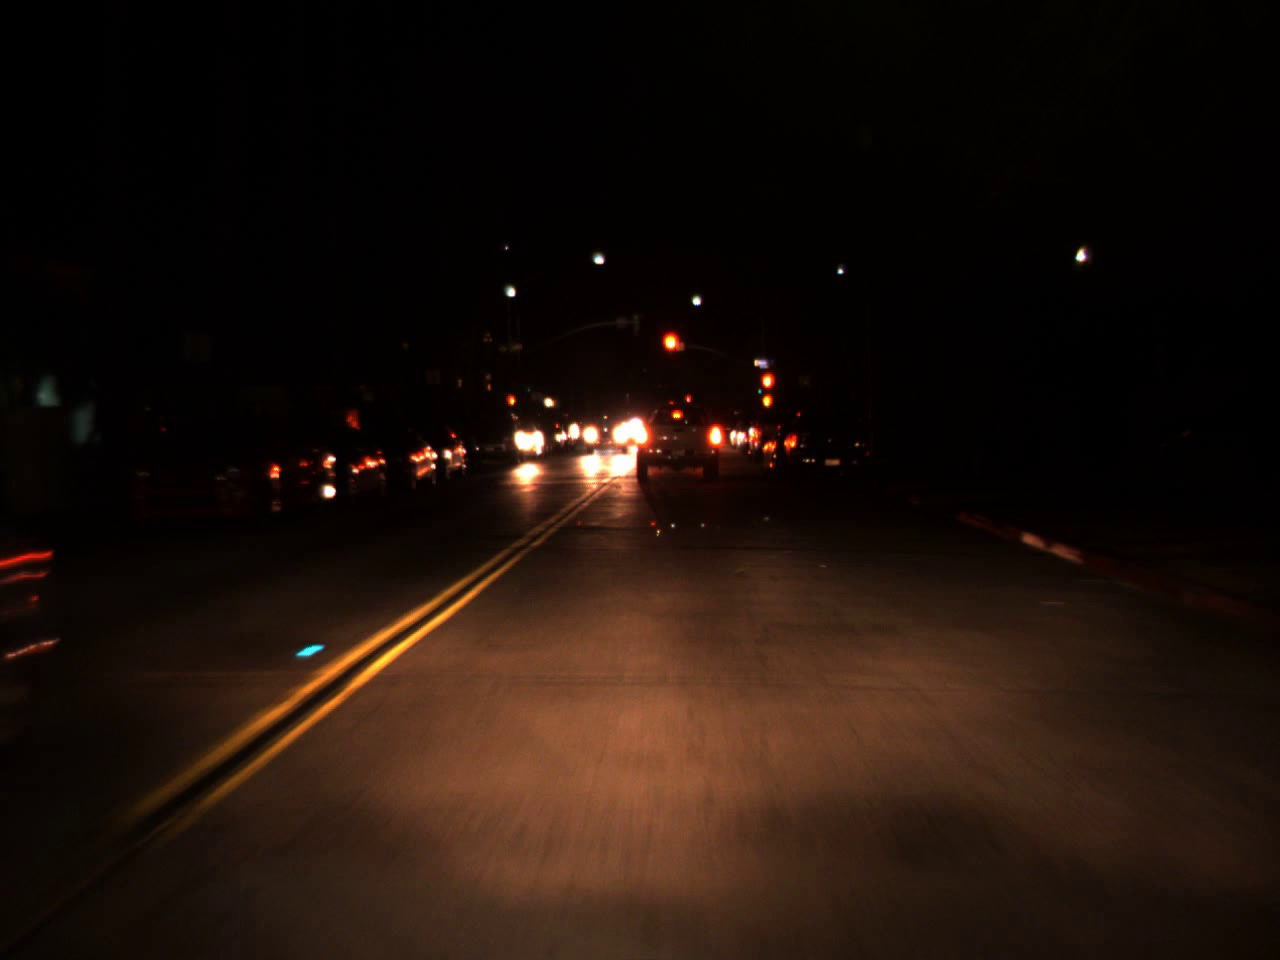stop: (660, 330, 684, 373), (759, 370, 777, 407)
